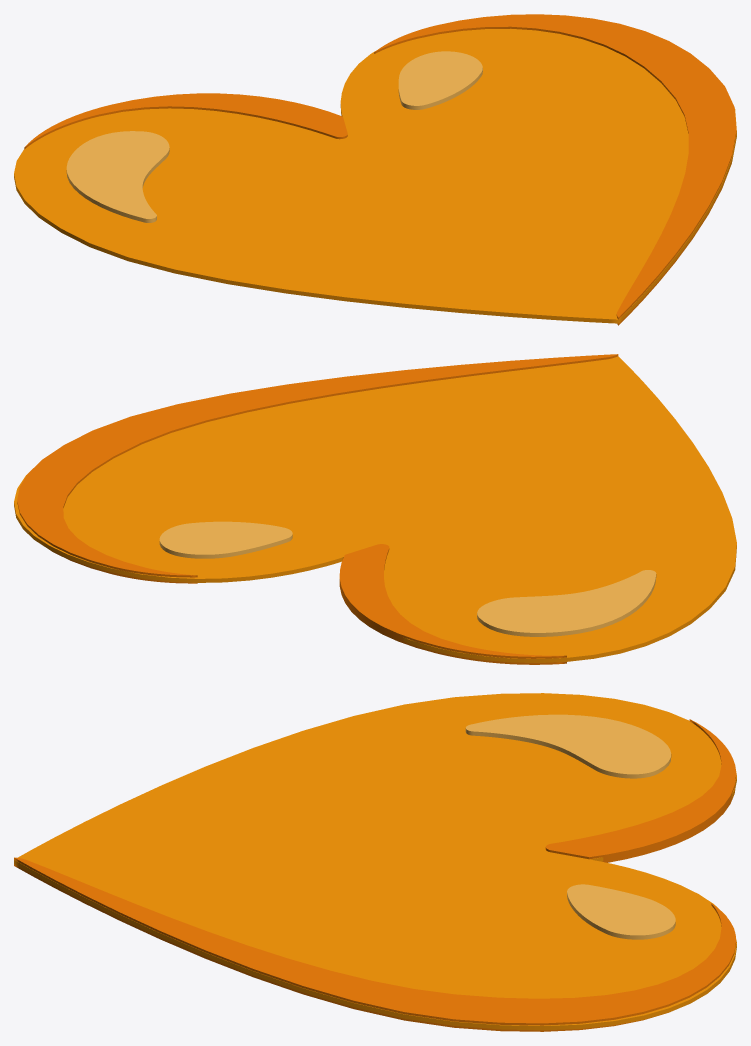
The model's file is emoji_u1f9e1.glb.
The picture shows the model from 3 angles, top to bottom: view 1: azimuth 30°, elevation 25°; view 2: azimuth 150°, elevation 25°; view 3: azimuth 270°, elevation 25°; orthographic projection. The views are drawn at different scales.
Visible parts, largest first — view 1: emoji_u1f9e1; view 2: emoji_u1f9e1; view 3: emoji_u1f9e1.
Part boxes in pixels (x1,y1,x2,y2): emoji_u1f9e1: (14, 14, 736, 325); emoji_u1f9e1: (14, 354, 736, 664); emoji_u1f9e1: (14, 693, 736, 1031).
Bounding box in the file's own units: 0.0339 × 0.0006 × 0.0311.
